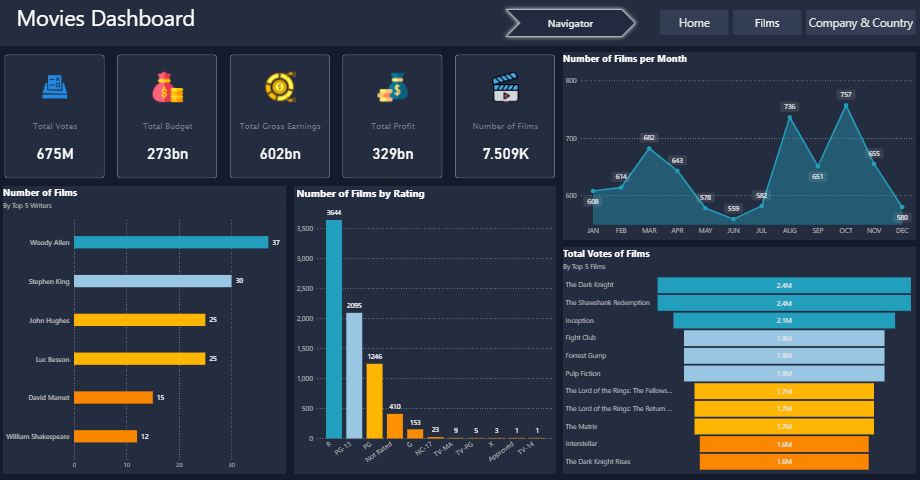

Layout of this report page (visuals, bound fields, positions):
{"tool":"powerbi","page":{"name":"Films","canvas":[1820,950],"ordinal":1},"visuals":[{"type":"shape","title":"Number of Films","box":[9.9,368.6,557.8,567.6],"z":0},{"type":"shape","title":"Number of Films per Month","box":[1113.6,104.5,695.7,370.5],"z":1000},{"type":"shape","title":"Total Votes of Films","box":[1113.6,488.8,695.7,447.4],"z":2000},{"type":"shape","box":[0,0,1819.2,92.6],"z":3000},{"type":"cardVisual","fields":{"Data":["movies1.votes","movies1.budget","movies1.gross","movies1.Profit","movies1.name"]},"box":[7.9,104.5,1097.8,254.3],"z":4000},{"type":"columnChart","title":"Number of  Films by Rating","fields":{"Category":["movies1.rating"],"Y":["movies1.name"]},"box":[583.4,368.6,516.4,567.6],"z":5000},{"type":"barChart","fields":{"Category":["movies1.writer"],"Y":["movies1.name"]},"box":[9.9,423.8,557.8,512.4],"z":6000},{"type":"funnel","title":"Avg of gross & Avg of Profit & Avg of budget by star","fields":{"Category":["movies1.name"],"Y":["movies1.votes"]},"box":[1113.6,540,695.7,396.2],"z":7000},{"type":"textbox","box":[31.5,2,376.5,67],"z":8000},{"type":"areaChart","fields":{"Category":["movies1.Month"],"Y":["movies1.name"]},"box":[1113.6,145.9,695.7,329.1],"z":9000},{"type":"pageNavigator","box":[1304.8,21.7,136,49.3],"z":10000},{"type":"pageNavigator","box":[1448.7,21.7,136,49.3],"z":11000},{"type":"pageNavigator","box":[1592.5,21.7,216.8,49.3],"z":12000},{"type":"shape","box":[991.4,11.8,274,71],"z":14000}]}

Visuals, with their boxes in screenshot pixels (x1, y1, x2, y2), scaled from the page's 1820x950 canvas onto the 920x480 screenshot:
"Number of Films" shape: {"x1": 5, "y1": 186, "x2": 287, "y2": 473}
"Number of Films per Month" shape: {"x1": 563, "y1": 53, "x2": 915, "y2": 240}
"Total Votes of Films" shape: {"x1": 563, "y1": 247, "x2": 915, "y2": 473}
shape: {"x1": 0, "y1": 0, "x2": 919, "y2": 47}
cardVisual - movies1.votes x movies1.budget: {"x1": 4, "y1": 53, "x2": 559, "y2": 181}
"Number of  Films by Rating" columnChart: {"x1": 295, "y1": 186, "x2": 556, "y2": 473}
barChart - movies1.writer x movies1.name: {"x1": 5, "y1": 214, "x2": 287, "y2": 473}
"Avg of gross & Avg of Profit & Avg of budget by star" funnel: {"x1": 563, "y1": 273, "x2": 915, "y2": 473}
textbox: {"x1": 16, "y1": 1, "x2": 206, "y2": 35}
areaChart - movies1.Month x movies1.name: {"x1": 563, "y1": 74, "x2": 915, "y2": 240}
pageNavigator: {"x1": 660, "y1": 11, "x2": 728, "y2": 36}
pageNavigator: {"x1": 732, "y1": 11, "x2": 801, "y2": 36}
pageNavigator: {"x1": 805, "y1": 11, "x2": 915, "y2": 36}
shape: {"x1": 501, "y1": 6, "x2": 640, "y2": 42}
